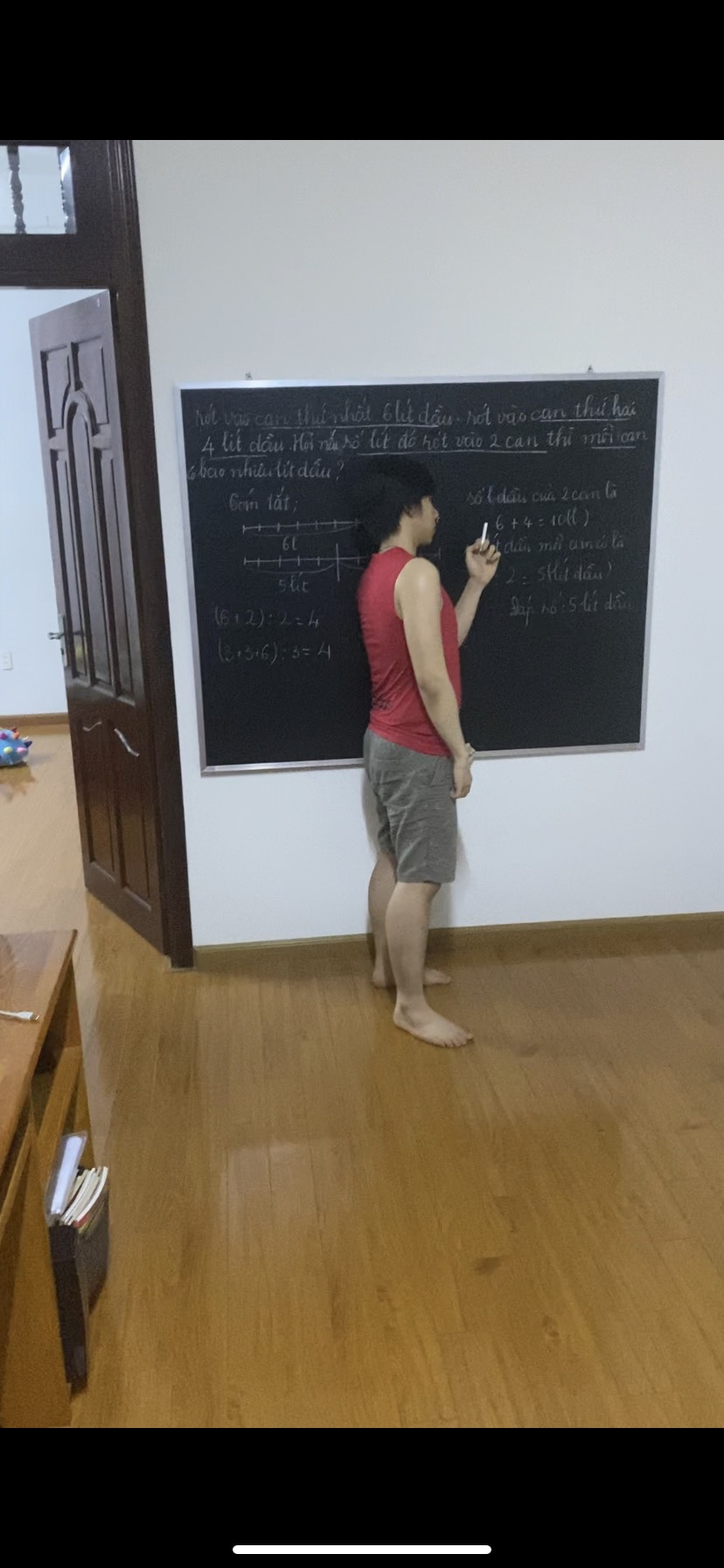cigarette: (478, 520, 492, 542)
person: (358, 475, 501, 1042)
